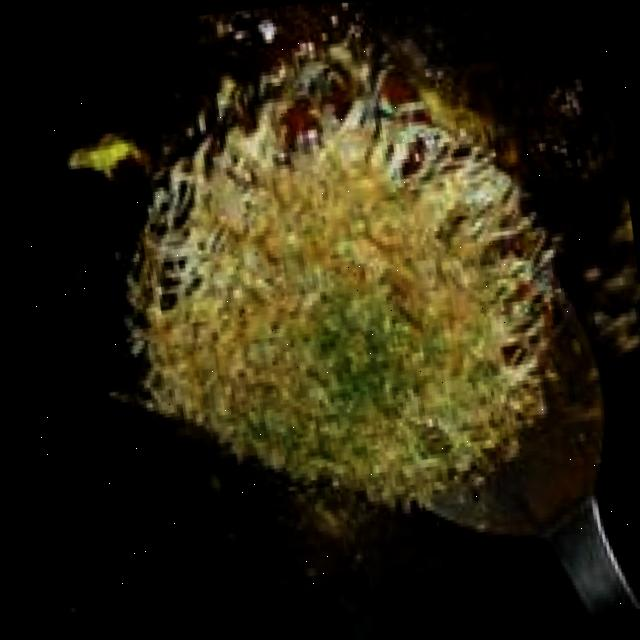蛋糕甜品: (94, 27, 572, 551)
